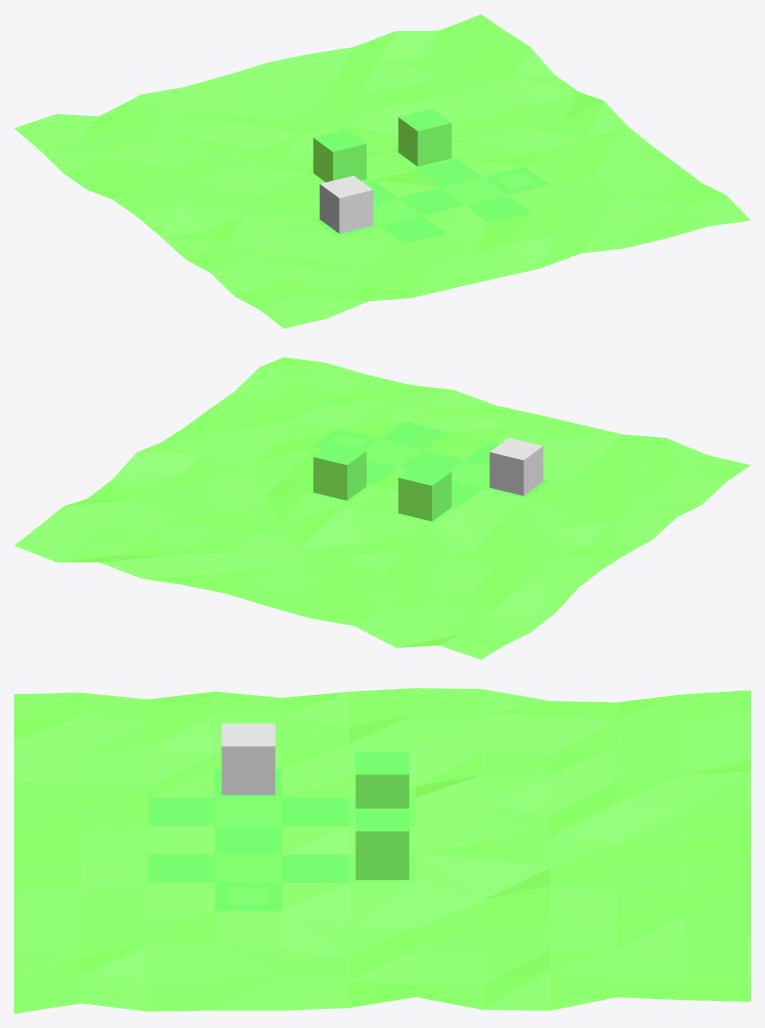
Rendered from Level41.dae.
The picture shows the model from 3 angles, top to bottom: view 1: azimuth 30°, elevation 25°; view 2: azimuth 150°, elevation 25°; view 3: azimuth 270°, elevation 25°; orthographic projection. The views are drawn at different scales.
Visible parts, largest first — view 1: surface, Blocky, Enemy1, Enemy0; view 2: surface, Blocky, Enemy0, Enemy1; view 3: surface, Blocky, Enemy1, Enemy0.
Part boxes in pixels (box(x1,y1,x2,y2)): surface: box(14, 14, 750, 328); Blocky: box(319, 175, 373, 233); Enemy1: box(398, 108, 451, 166); Enemy0: box(313, 129, 366, 182); surface: box(14, 357, 750, 659); Blocky: box(489, 438, 543, 495); Enemy0: box(398, 463, 451, 521); Enemy1: box(313, 442, 366, 500); surface: box(14, 688, 750, 1013); Blocky: box(221, 723, 275, 794); Enemy1: box(355, 808, 409, 879); Enemy0: box(355, 752, 409, 808).
Size of the model in its own units: 11 by 11 by 1.09.
